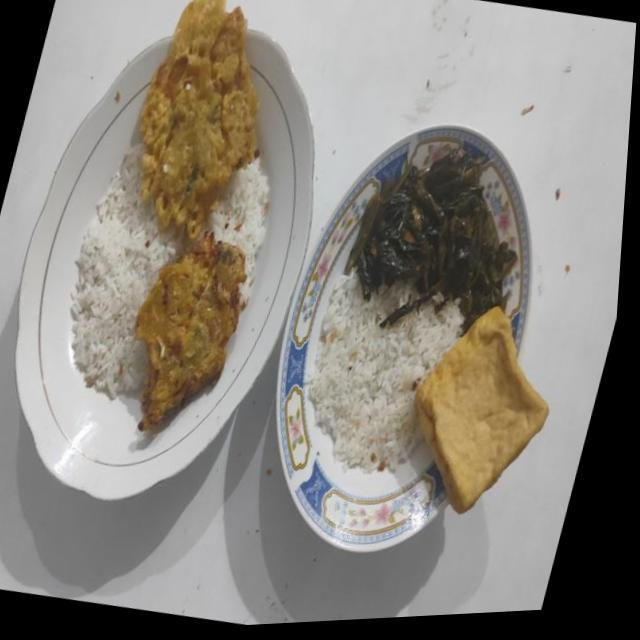nasi_putih: (307, 272, 463, 472), (70, 146, 192, 398), (204, 160, 268, 310)
tahu_goreng: (416, 307, 548, 514)
tumis_kangkung: (347, 151, 516, 331)
